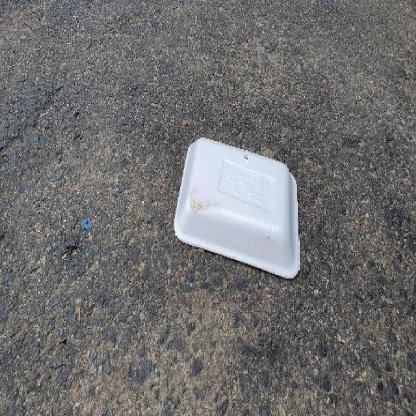Glass Cup: (172, 138, 300, 278), (174, 137, 300, 278)
